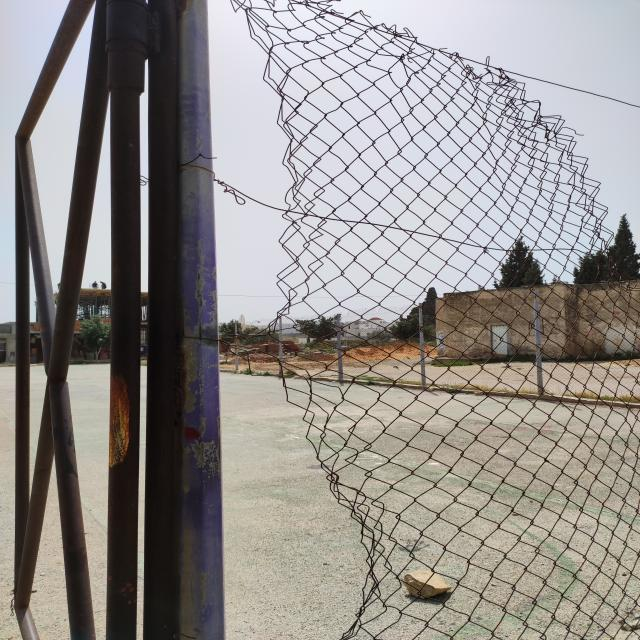fence line: (213, 362, 397, 631), (200, 5, 314, 334), (548, 93, 639, 257)
